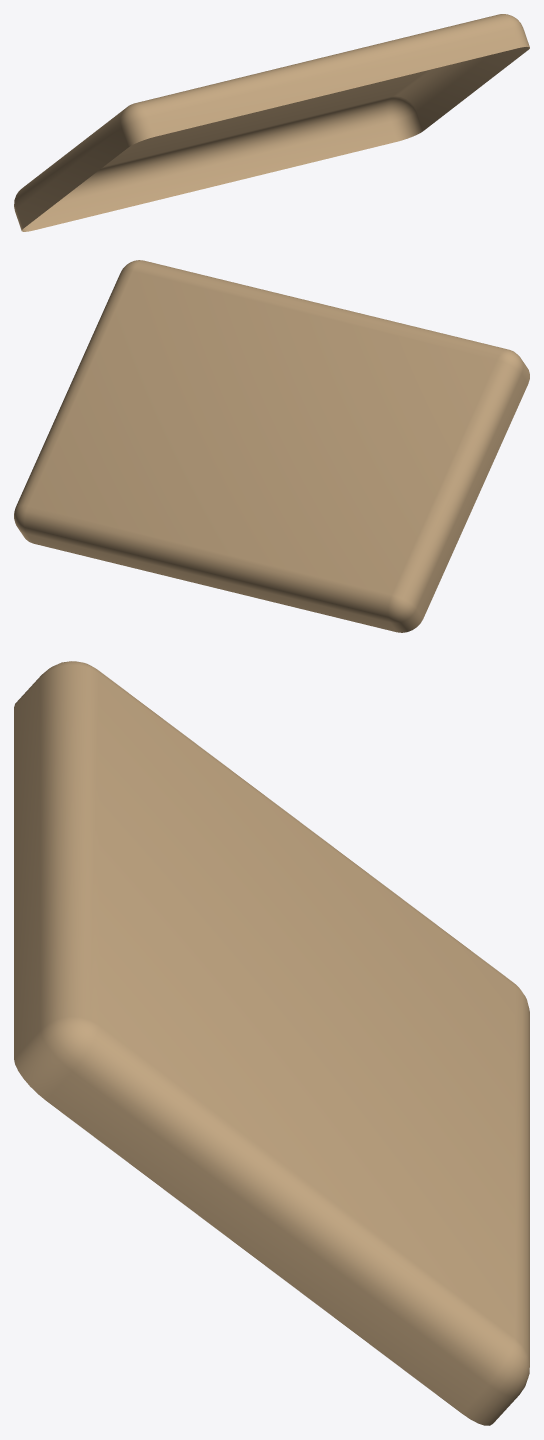
Rendered from original-4.obj.
3 renders of one model, top to bottom at view 1: azimuth 30°, elevation 25°; view 2: azimuth 150°, elevation 25°; view 3: azimuth 270°, elevation 25°, orthographic. The views are drawn at different scales.
Parts seen in each view (by area): view 1: Deckel1/Deckel/mesh4/mesh4-geometry#mesh4-geometry; view 2: Deckel1/Deckel/mesh4/mesh4-geometry#mesh4-geometry; view 3: Deckel1/Deckel/mesh4/mesh4-geometry#mesh4-geometry.
Boxes of the visible parts, x1,y1,x2,y2 form: Deckel1/Deckel/mesh4/mesh4-geometry#mesh4-geometry: (14, 14, 529, 231); Deckel1/Deckel/mesh4/mesh4-geometry#mesh4-geometry: (14, 260, 529, 632); Deckel1/Deckel/mesh4/mesh4-geometry#mesh4-geometry: (14, 661, 529, 1425).
Bounding box in the file's own units: 1.46 × 0.7113 × 0.8241.
